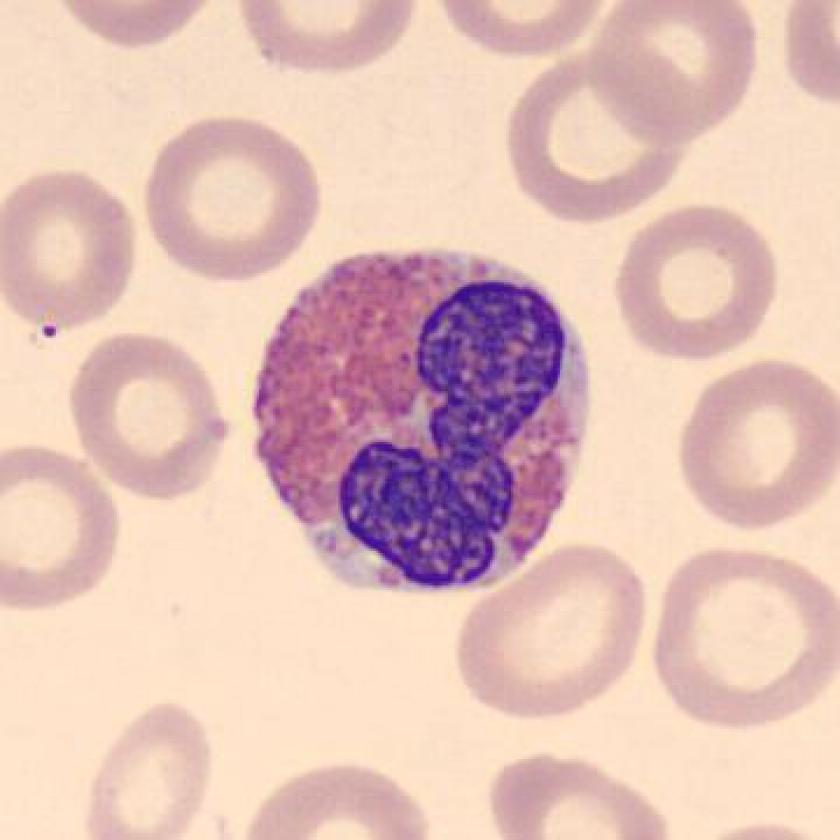eosinophil: (244, 237, 603, 612)
